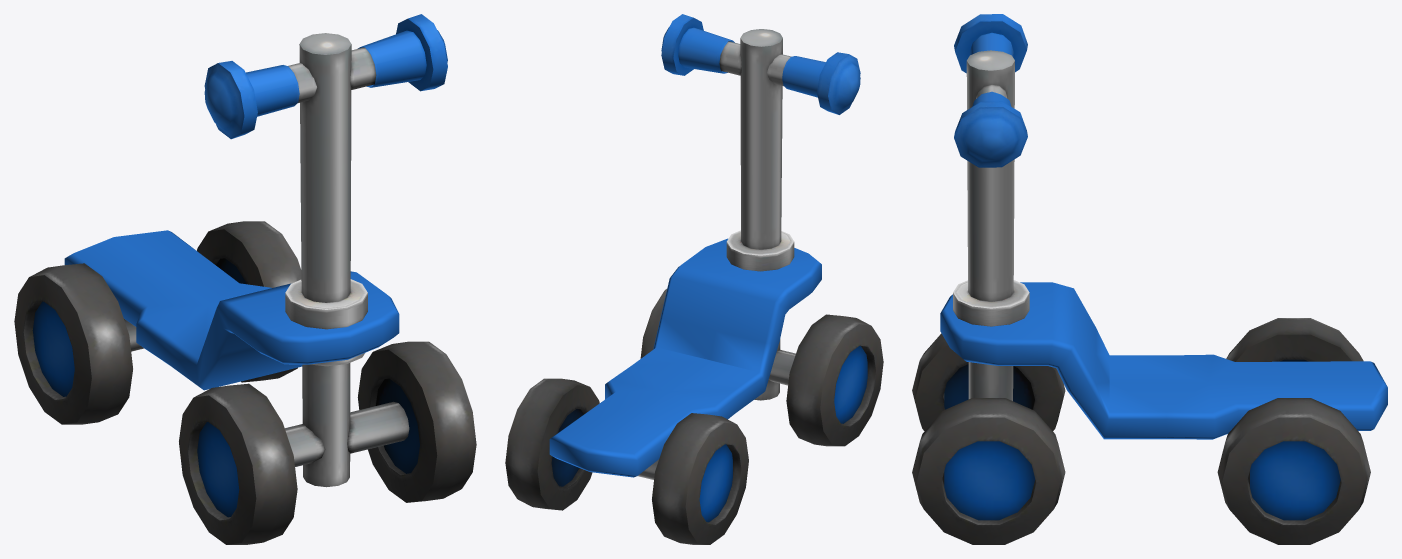
File: 0-scooter_blue.fbx
3 views of the same model, side by side, from view 1: azimuth 30°, elevation 25°; view 2: azimuth 150°, elevation 25°; view 3: azimuth 270°, elevation 25° (orthographic). The views are drawn at different scales.
Visible parts, largest first — view 1: 0-scooter_blue; view 2: 0-scooter_blue; view 3: 0-scooter_blue.
Boxes of the visible parts, left/top/right/bottom form: 0-scooter_blue: left=14, top=14, right=476, bottom=544; 0-scooter_blue: left=505, top=14, right=883, bottom=544; 0-scooter_blue: left=912, top=14, right=1387, bottom=544.
Size of the model in its own units: 48.86 by 95.71 by 93.76.
